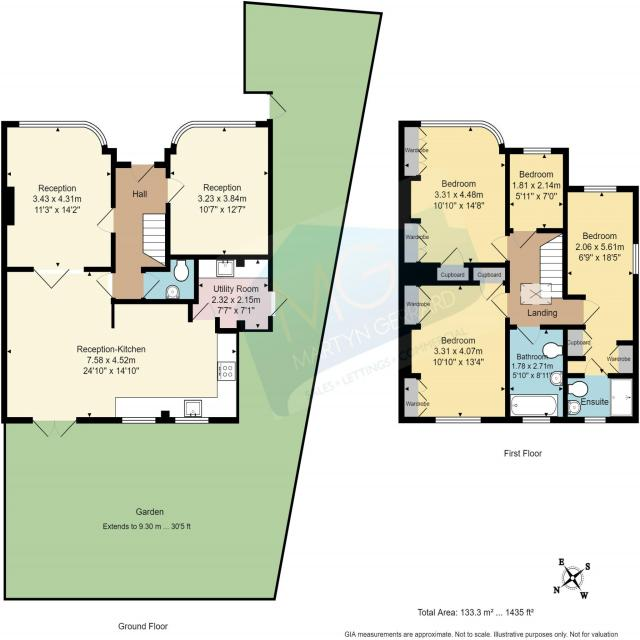DOOR: (94, 271, 116, 300), (94, 206, 116, 234), (489, 233, 510, 262), (166, 176, 187, 204), (490, 291, 510, 319), (191, 300, 216, 322), (516, 324, 541, 346), (512, 228, 538, 249), (582, 299, 601, 325)
ROOM: (1, 119, 239, 439), (165, 119, 274, 259), (562, 185, 639, 379), (411, 120, 511, 263), (411, 281, 511, 423), (505, 147, 570, 250)
WINDOW: (17, 119, 108, 148), (170, 119, 257, 146), (420, 120, 505, 145), (434, 416, 482, 424), (122, 416, 157, 425), (583, 185, 618, 193), (632, 243, 640, 275), (174, 417, 210, 424), (522, 416, 552, 423), (522, 147, 551, 154), (583, 417, 607, 424)
